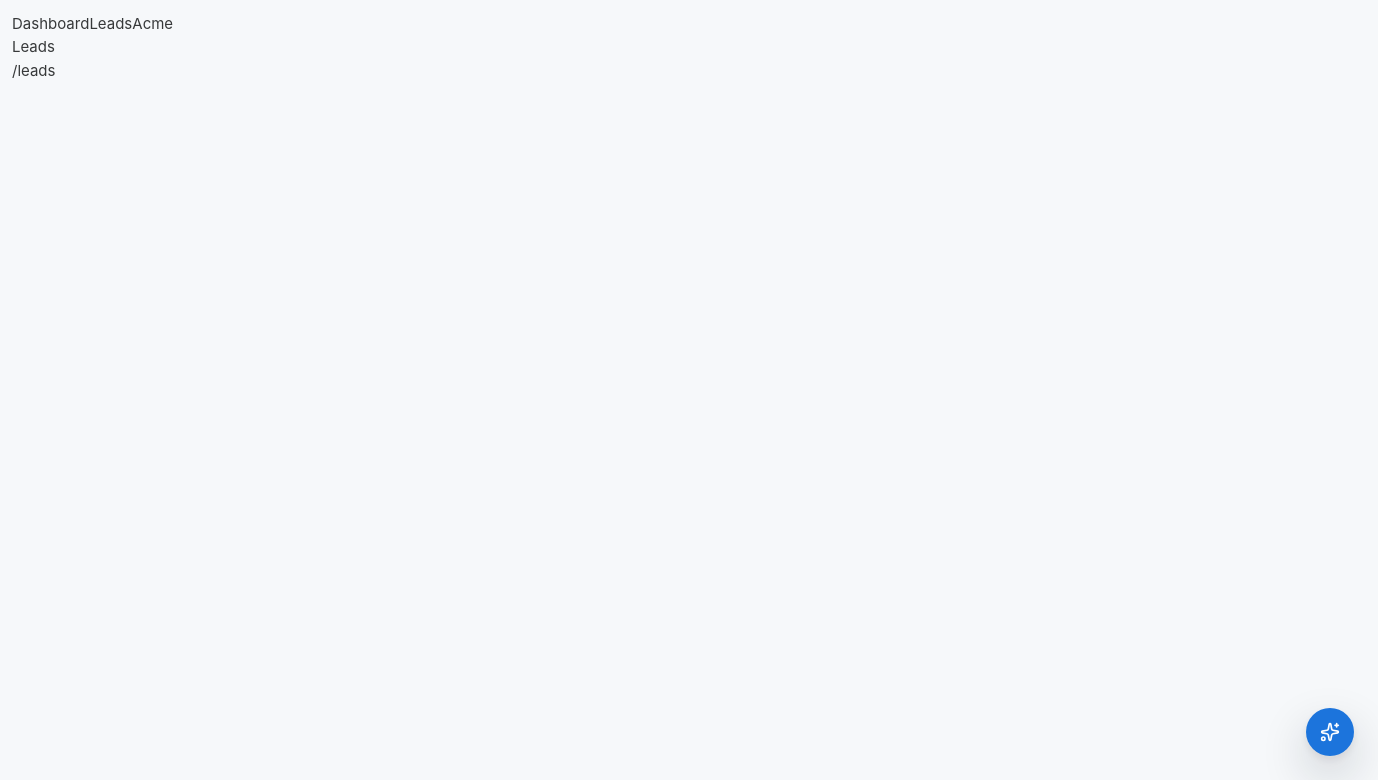
Test: AssistantLauncher › offline (the AI service is not running) › shows a calm notice on 404, invents nothing, and keeps the suggestions
The image size is (1378, 780).
Click the button named "ai assistant" at x=1330, y=732, box [1306,708,1354,756]
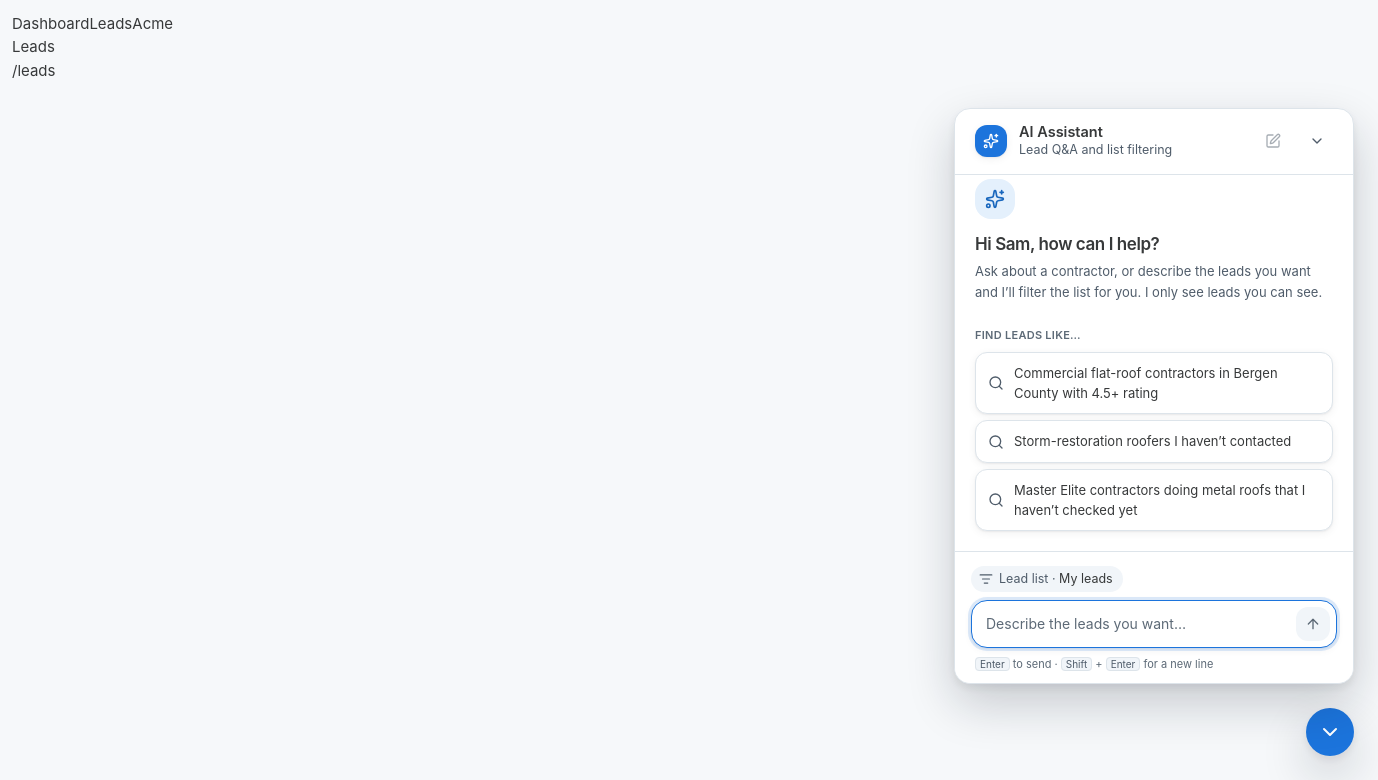
Click the button "Storm-restoration roofers I haven’t contacted" at x=1154, y=442, box [975,420,1333,463]
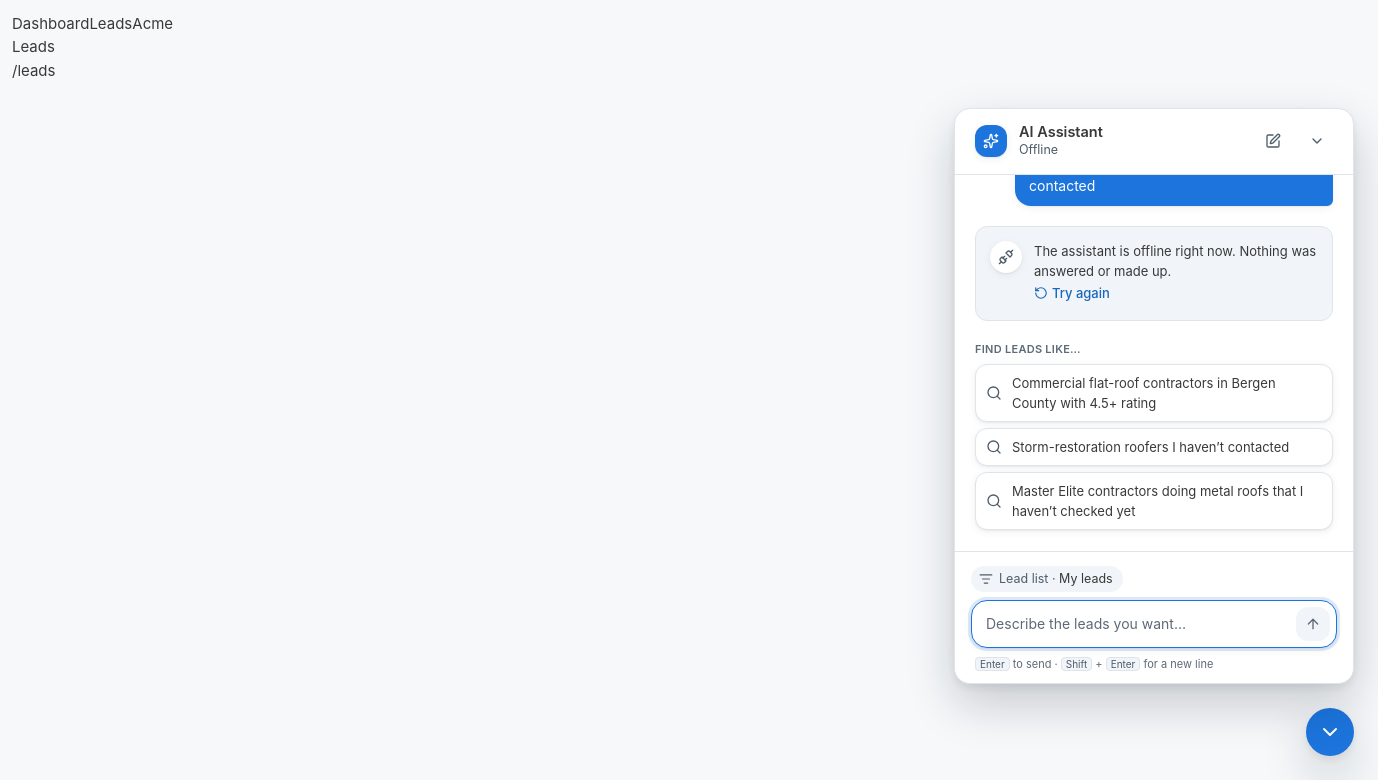
Now the heading "Find leads like…" is shown, box [975,342,1081,356]
Now the button "Commercial flat-roof contractors in Bergen County" is enabled, box [975,364,1333,422]
Now the text with test id "assistant-status" reads "Offline", box [1019,142,1058,157]
